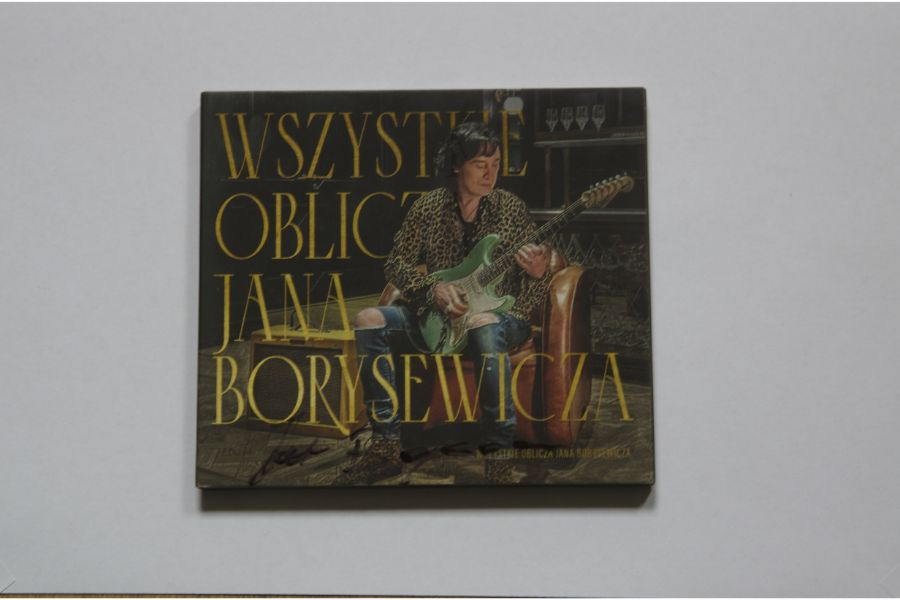album: (195, 91, 658, 485)
